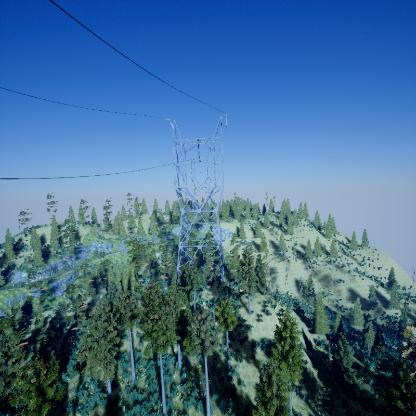tower: (162, 110, 232, 286)
